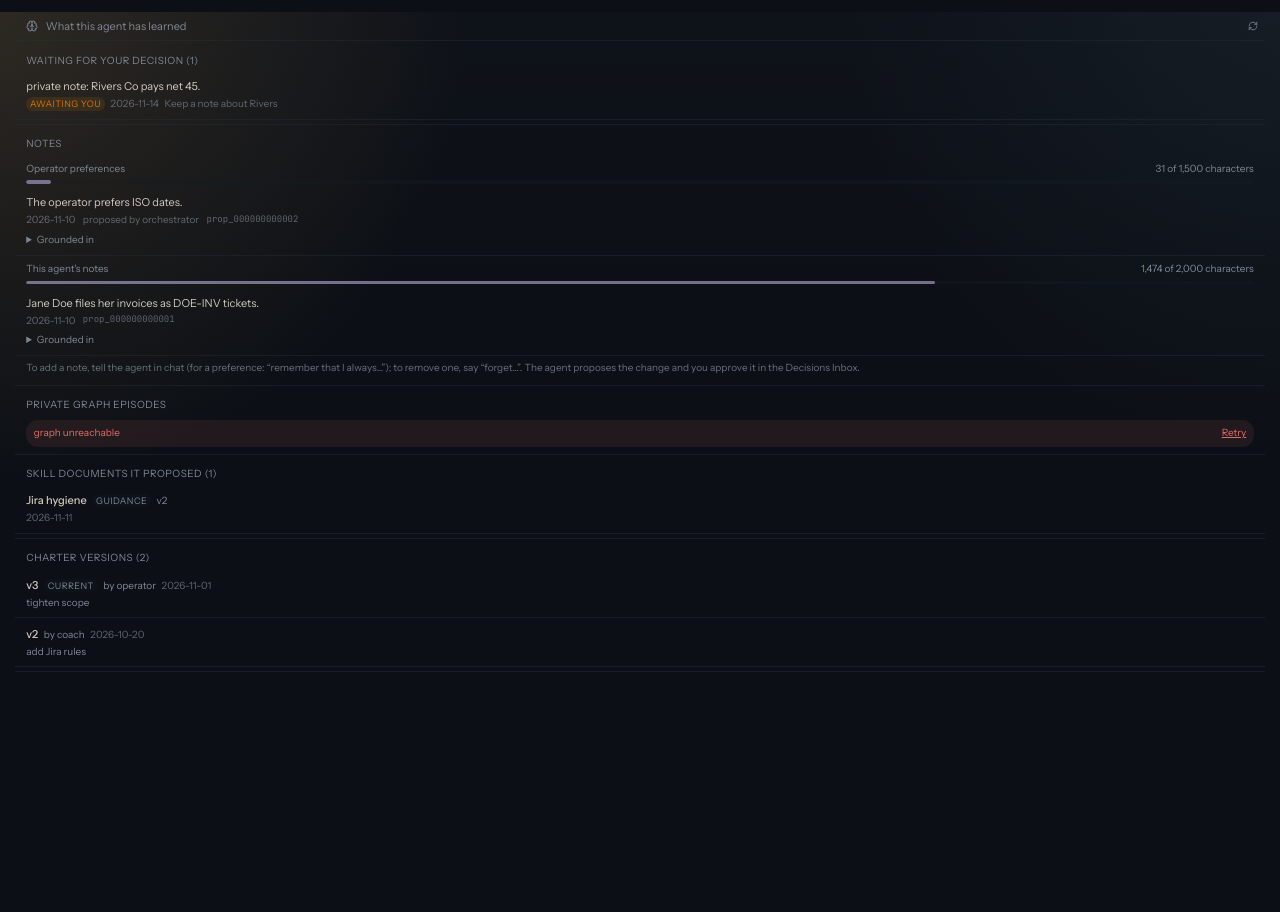
Test: MemoryTab › retries a failed section on request
Expected: the text "graph unreachable" is shown, [34, 426, 120, 439]
Click the button "Retry": (1234, 433) [1222, 425, 1246, 441]
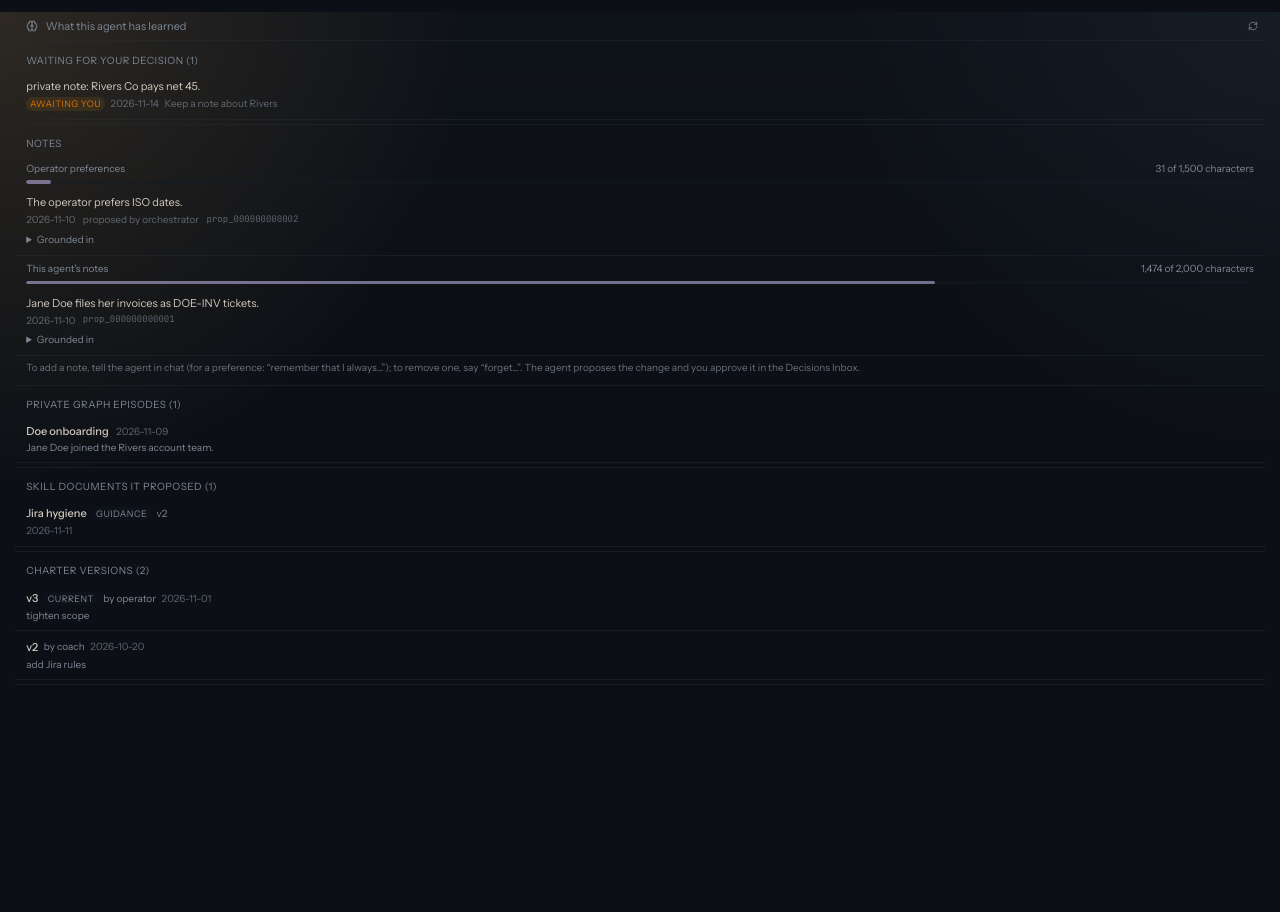
Expected: the text "Doe onboarding" is shown, [26, 424, 109, 438]
Expected: the text "graph unreachable" is gone
